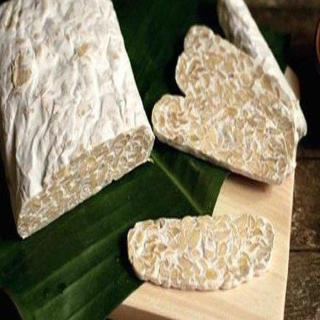Tempe: (1, 1, 308, 319), (152, 1, 308, 186), (128, 212, 276, 292)
